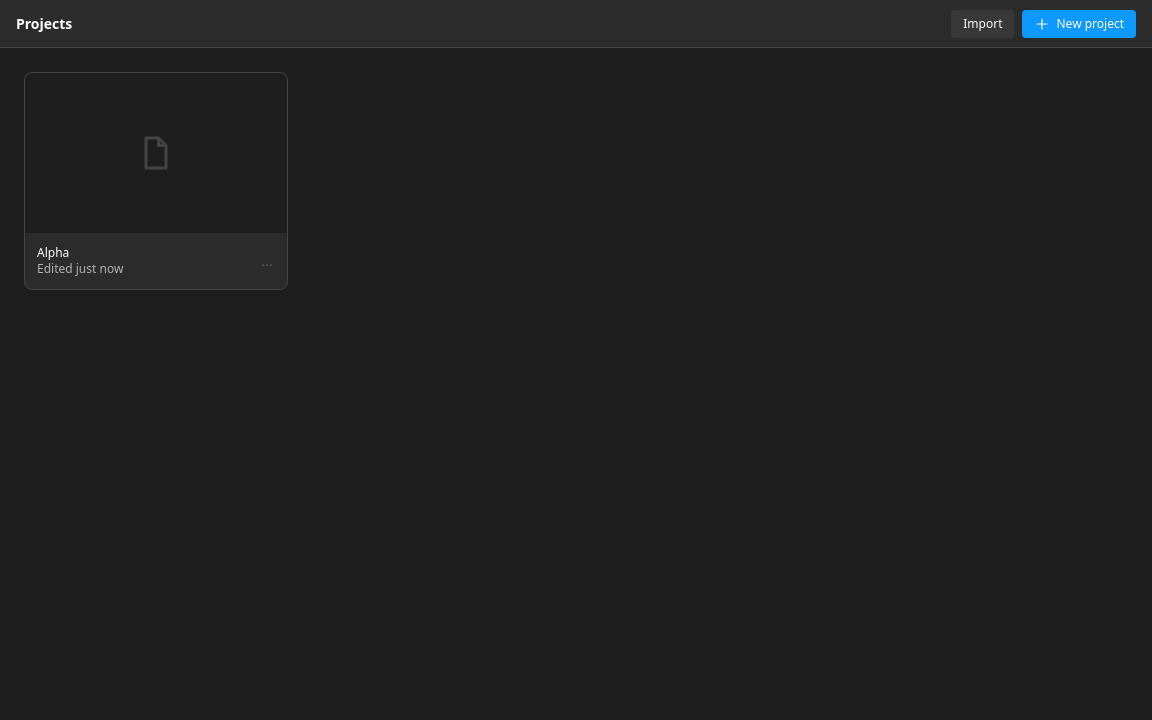
Scenario: Editor: installed plugins are listed in the command palette and the Plugins menu
Click the button with aria-label "Open Alpha".
click(156, 181)  # box left=25, top=73, right=287, bottom=289
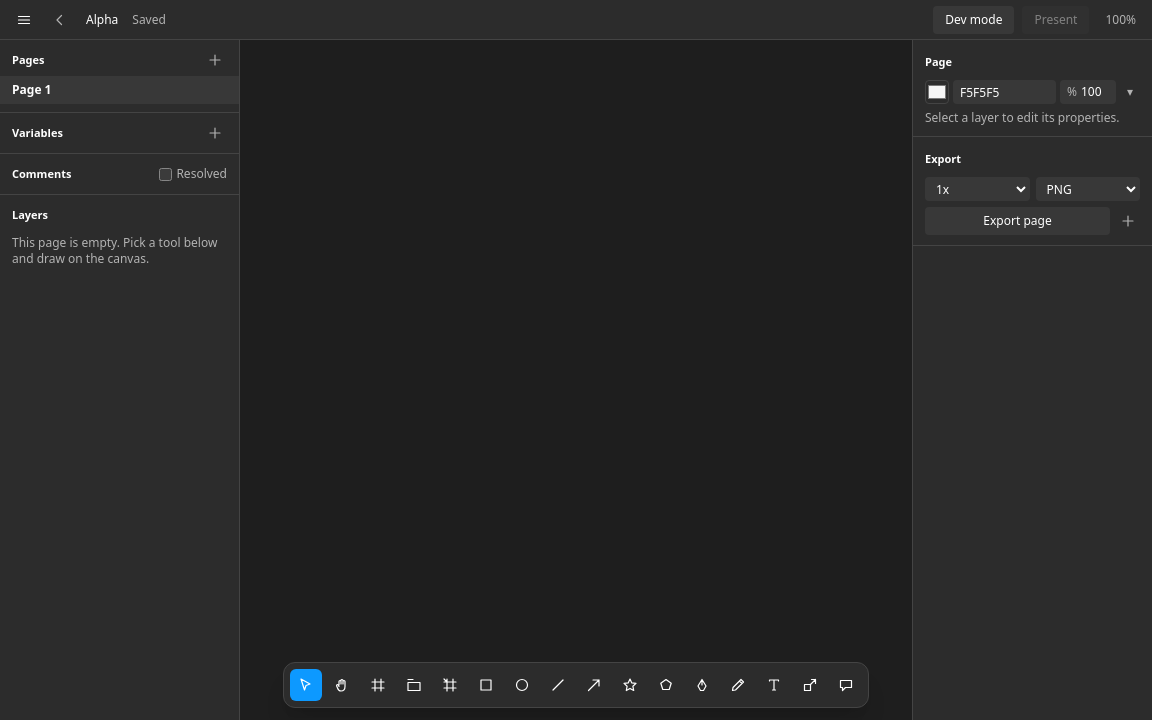
Type keys "{Control>}k{/Control}"
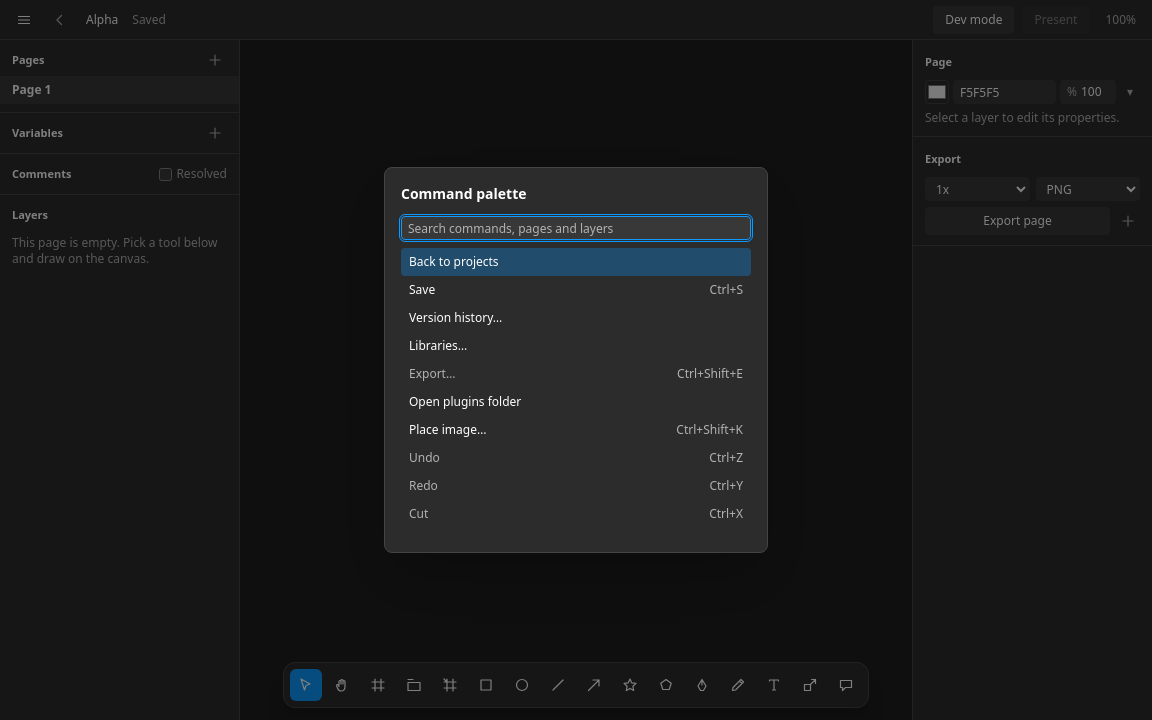
Type "demo" into the dropdown labelled "Search commands, pages and layers".
click(576, 228); type("demo")  # box left=401, top=216, right=751, bottom=240
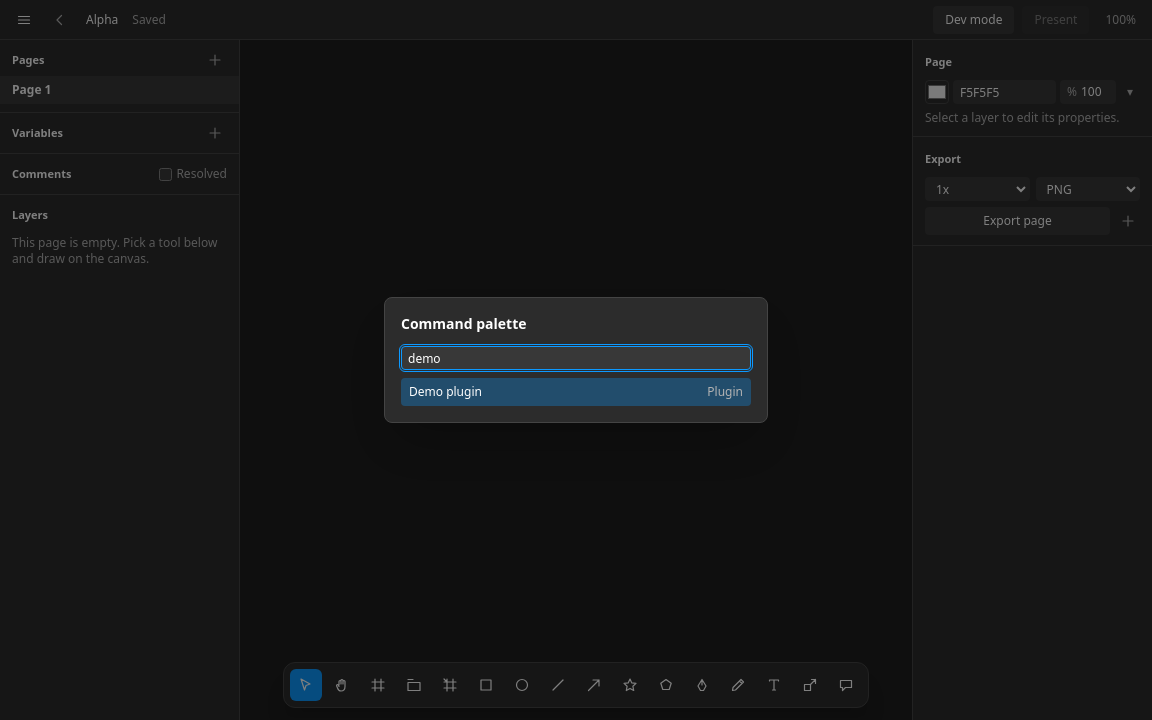
Now the option "Demo plugin Plugin" is shown, box left=401, top=378, right=751, bottom=406
Press Escape
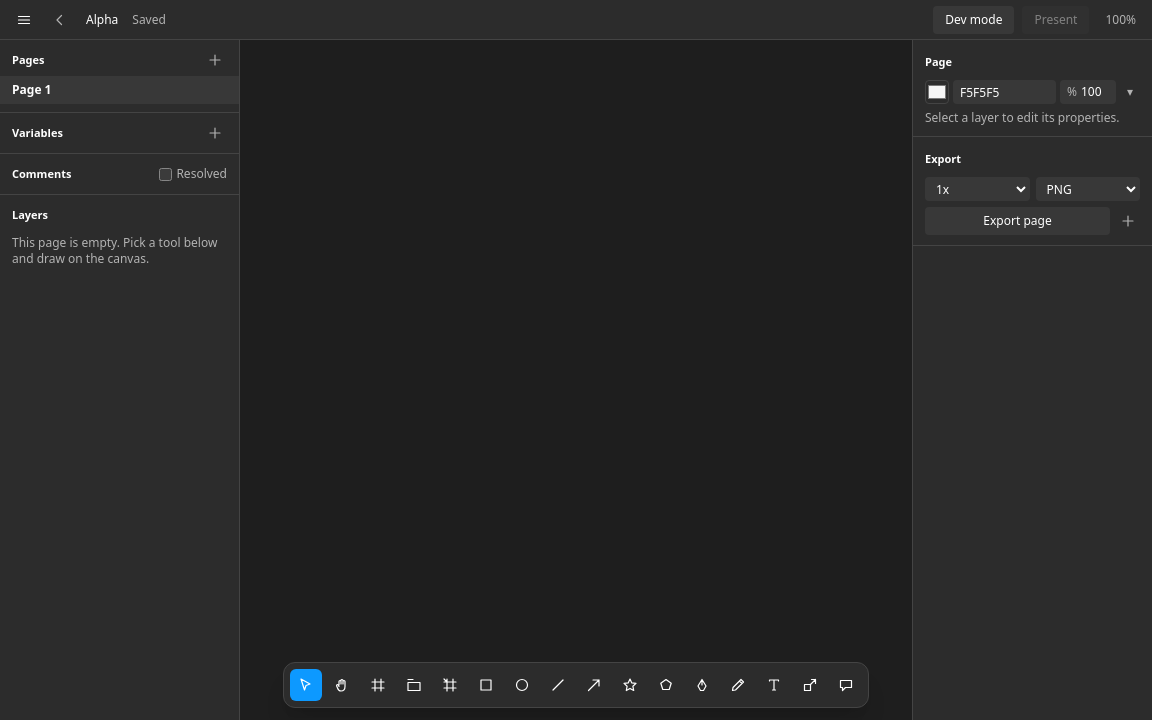
Click the button named "Main menu".
click(24, 20)  # box left=8, top=6, right=40, bottom=34
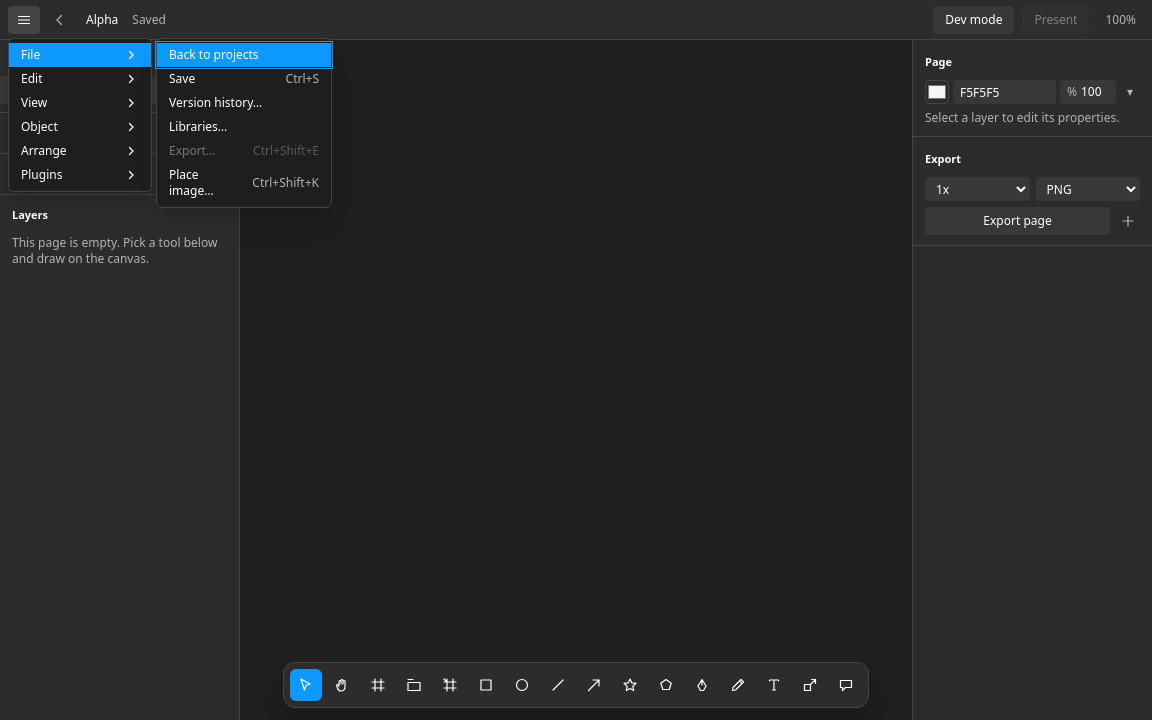
Click the menu item "Plugins".
click(80, 174)  # box left=9, top=162, right=151, bottom=186
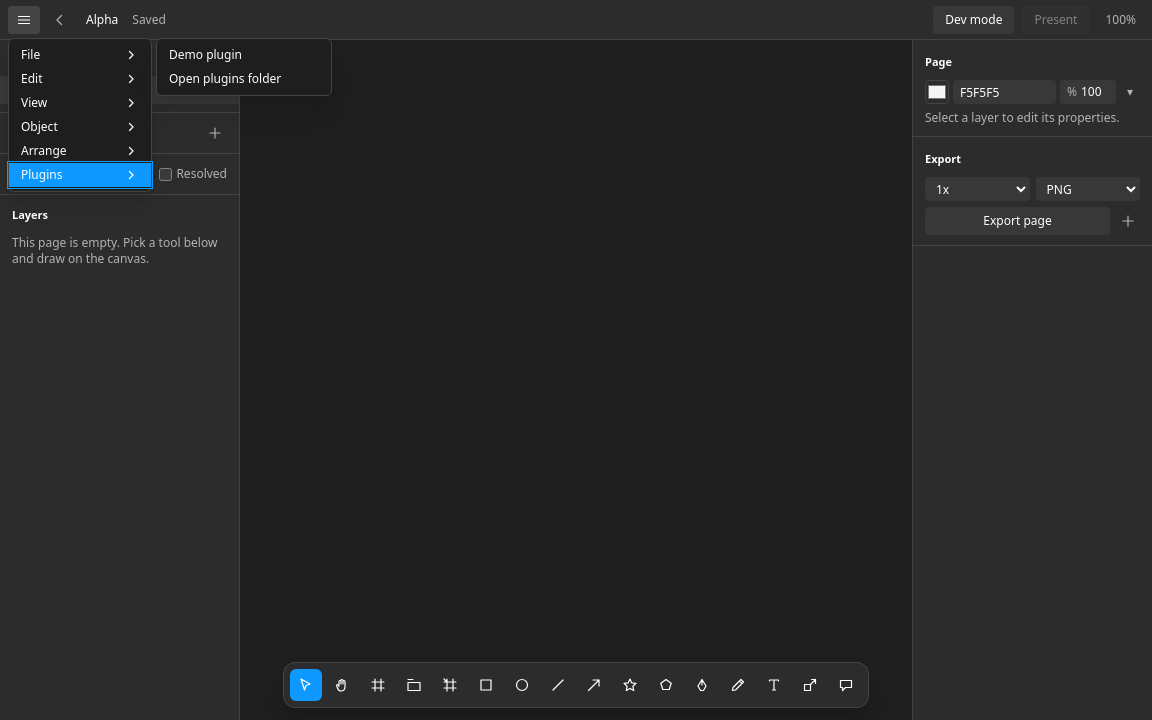
Now the menu item "Demo plugin" is shown, box left=157, top=42, right=331, bottom=66
Now the menu item "Open plugins folder" is shown, box left=157, top=66, right=331, bottom=90
